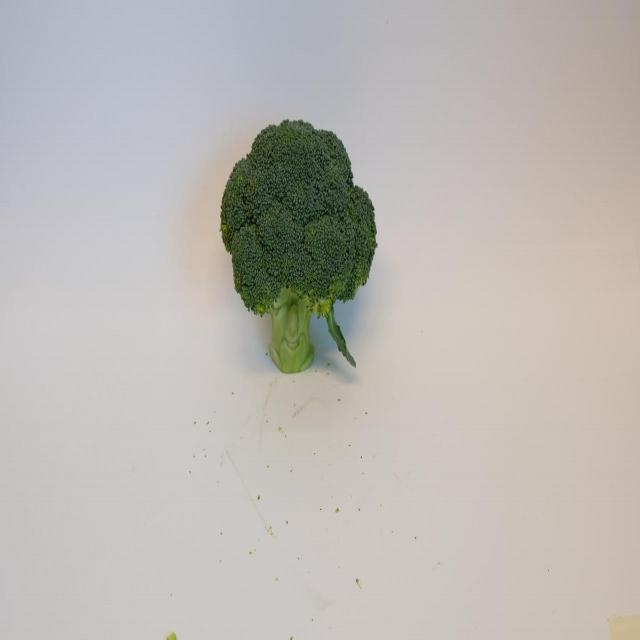broccoli: (219, 116, 379, 374)
